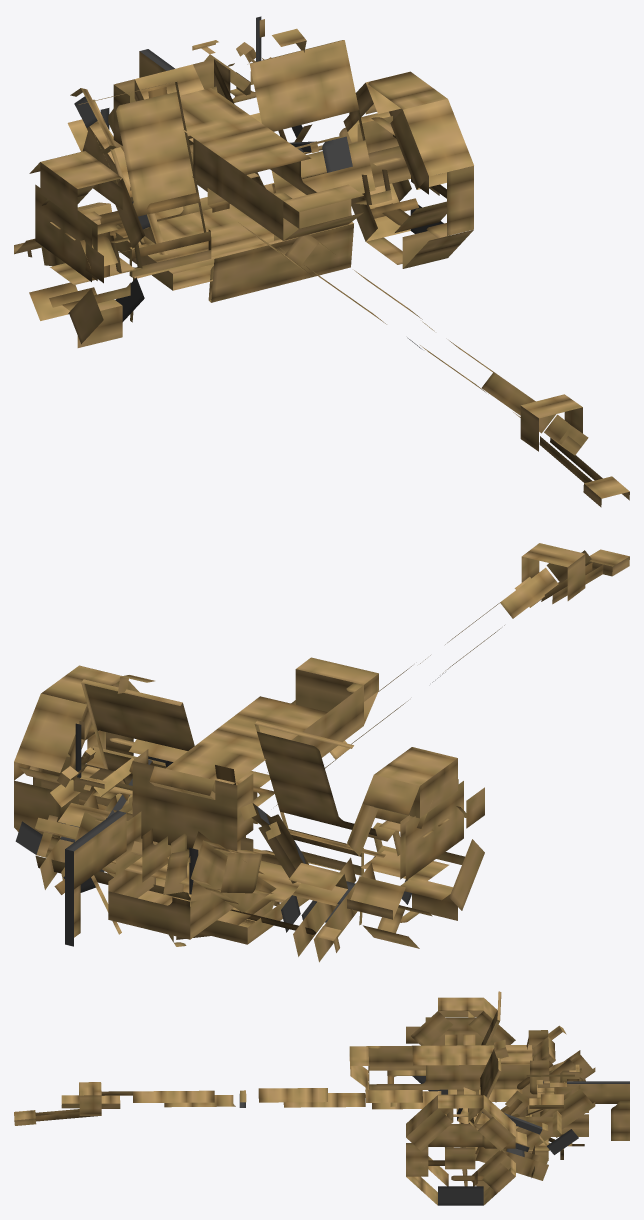
The model's file is d30_turret.obj.
3 renders of one model, top to bottom at view 1: azimuth 30°, elevation 25°; view 2: azimuth 150°, elevation 25°; view 3: azimuth 270°, elevation 25°, orthographic. The views are drawn at different scales.
Visible parts, largest first — view 1: turret, gun; view 2: turret, gun; view 3: turret, gun.
Part boxes in pixels (left/top/right/bottom): turret: left=14, top=28, right=473, bottom=347; gun: left=100, top=16, right=629, bottom=507; turret: left=14, top=665, right=484, bottom=962; gun: left=50, top=543, right=629, bottom=939; turret: left=406, top=991, right=629, bottom=1205; gun: left=14, top=1030, right=588, bottom=1136.
Bounding box in the file's own units: 2.6 × 1.48 × 6.12.
